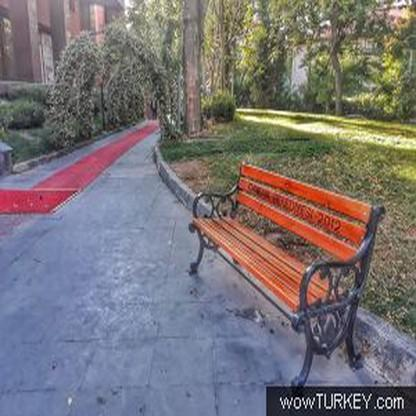obstacle: (177, 152, 382, 383)
